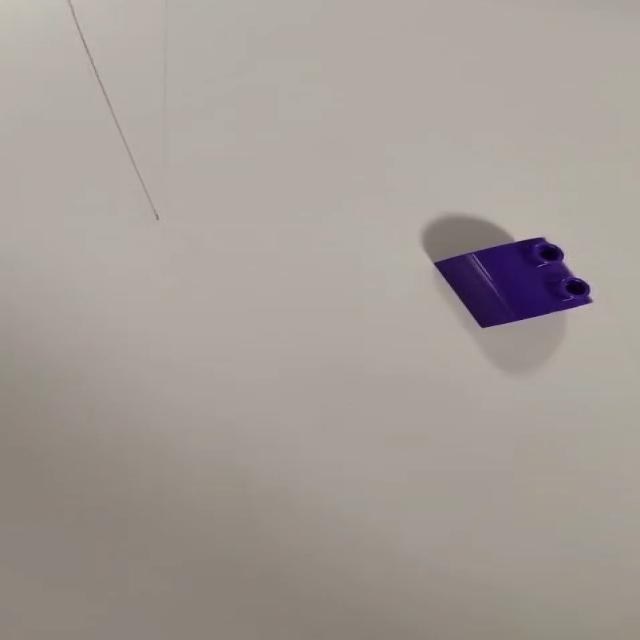H2x2x1: (428, 232, 599, 328)
